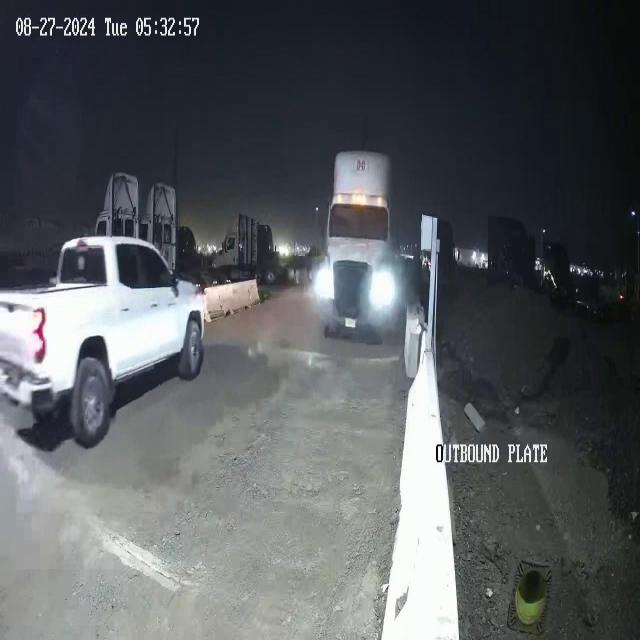TRUCK_IN: (317, 148, 405, 344)
